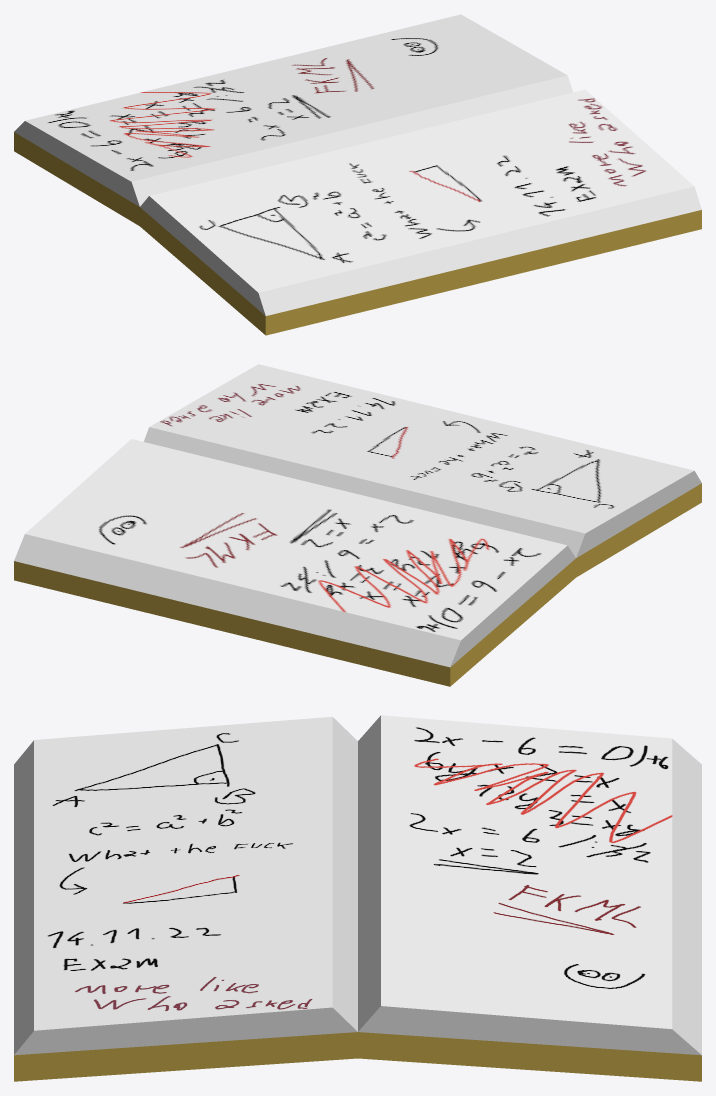
Rendered from Book.fbx.
3 renders of one model, top to bottom at view 1: azimuth 30°, elevation 25°; view 2: azimuth 150°, elevation 25°; view 3: azimuth 270°, elevation 25°, orthographic. The views are drawn at different scales.
Visible parts, largest first — view 1: Model; view 2: Model; view 3: Model.
Part boxes in pixels (x1,y1,x2,y2): Model: (14,14,701,335); Model: (14,364,701,686); Model: (14,715,701,1081).
Bounding box in the file's own units: 0.6814 × 0.0828 × 0.6814.
